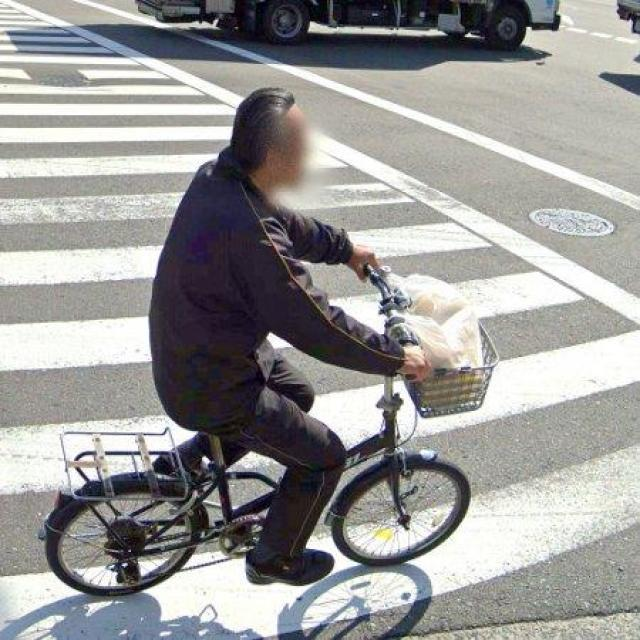bicycle: (44, 429, 280, 598), (327, 380, 473, 569)
